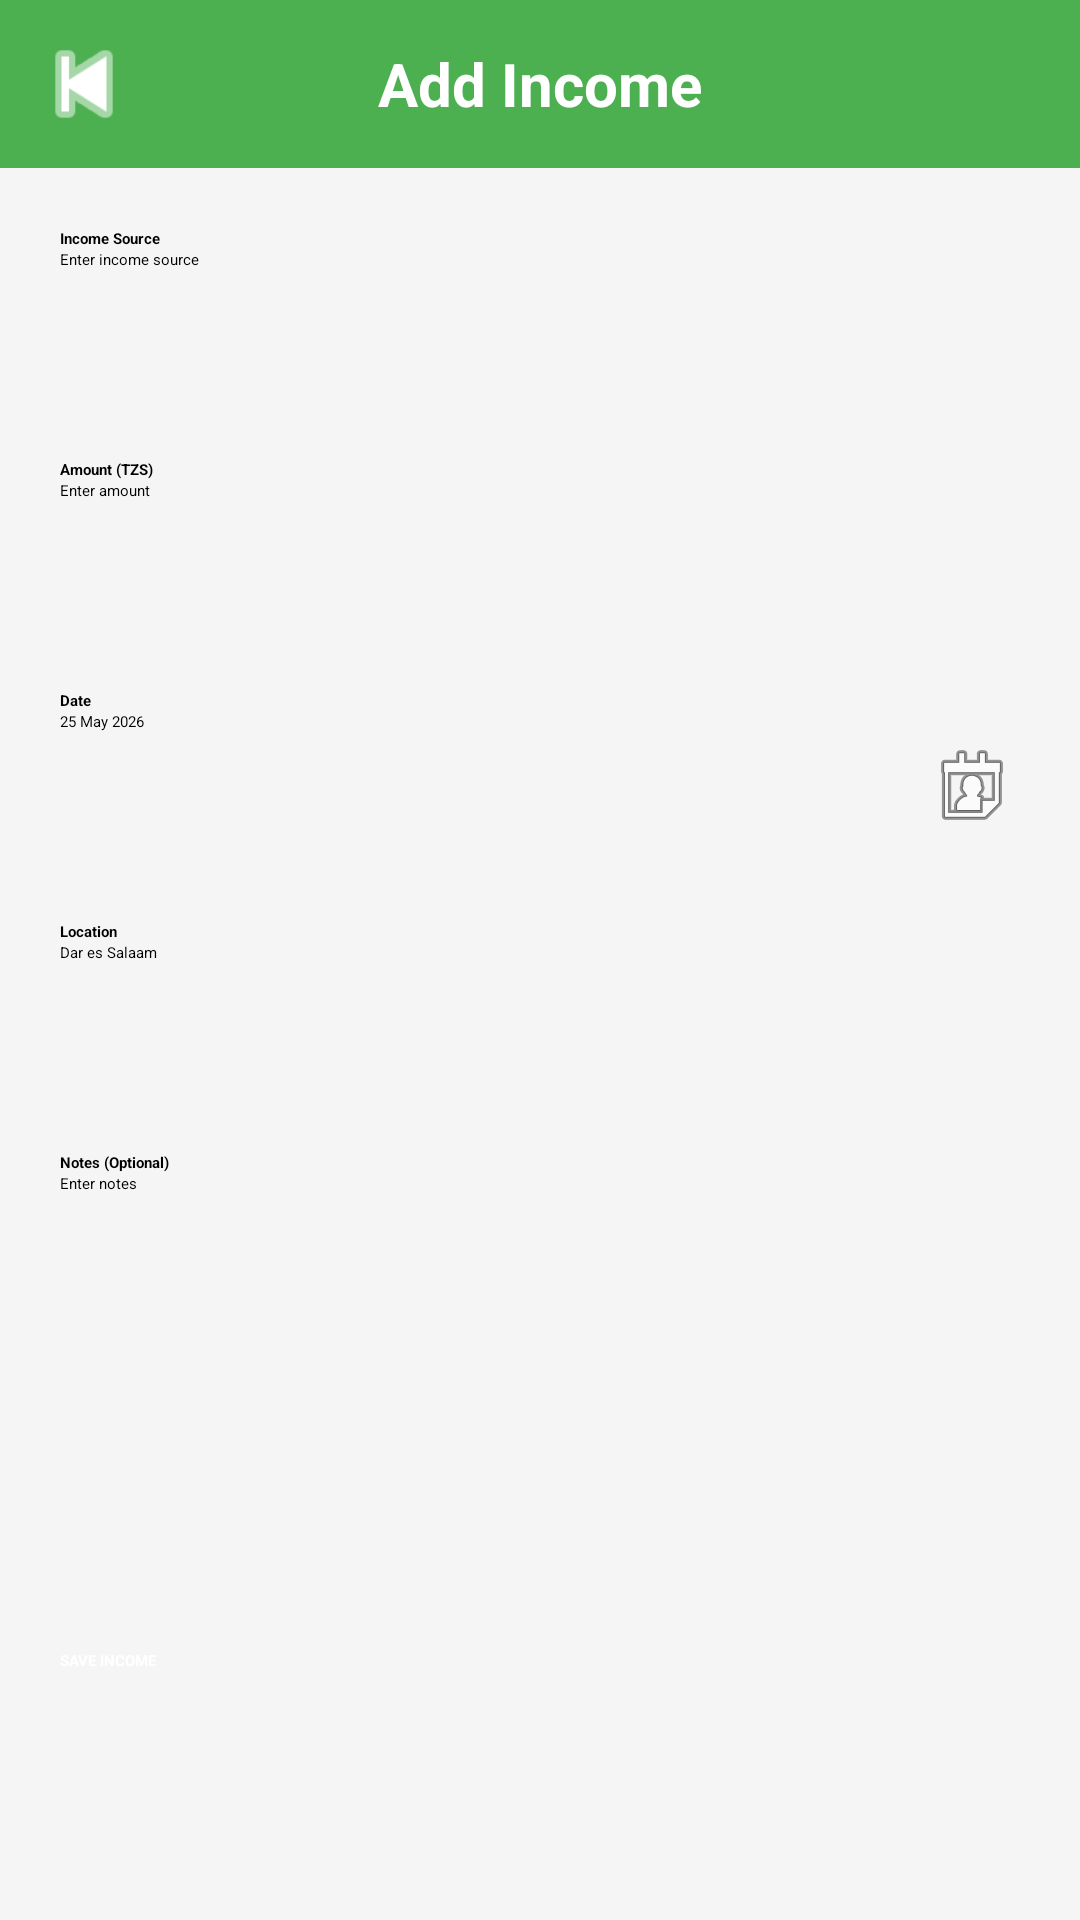

Screen size 1080 × 1920. Icon name, then its center in pixels as point (x, y):
previous: point (84, 84)
